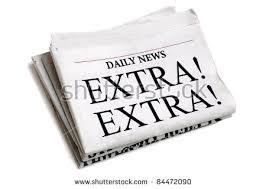Printing industry: (19, 5, 260, 174)
